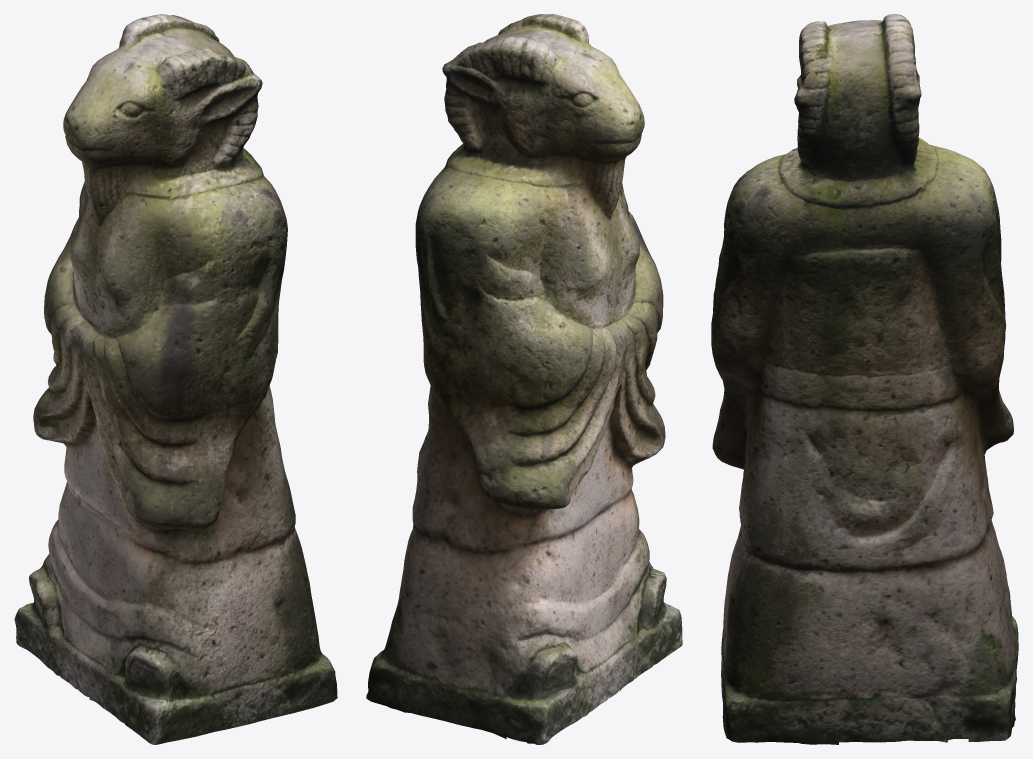
3 views of the same model, side by side, from view 1: azimuth 30°, elevation 25°; view 2: azimuth 150°, elevation 25°; view 3: azimuth 270°, elevation 25° (orthographic). The views are drawn at different scales.
Visible parts, largest first — view 1: LOD0; view 2: LOD0; view 3: LOD0.
Part boxes in pixels (bbox=[...]): LOD0: bbox=[14, 14, 337, 744]; LOD0: bbox=[366, 14, 682, 744]; LOD0: bbox=[711, 14, 1018, 744].
Size of what is drawn, in the model's own units: 7.59 by 22.55 by 9.41.
1 material, 1 textured.
